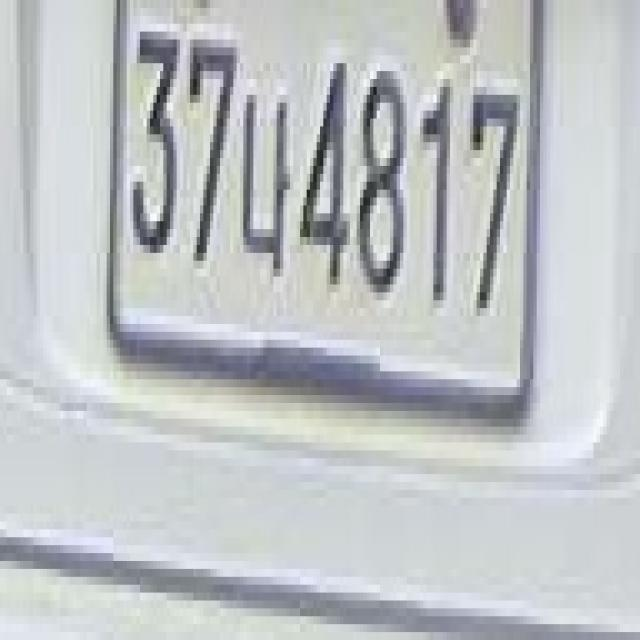1: (420, 71, 453, 308)
3: (133, 23, 180, 260)
4: (297, 56, 350, 276)
7: (463, 79, 520, 300), (186, 32, 236, 268)
8: (356, 63, 406, 300)
license_plate: (110, 8, 540, 403)
na: (237, 87, 293, 292)
